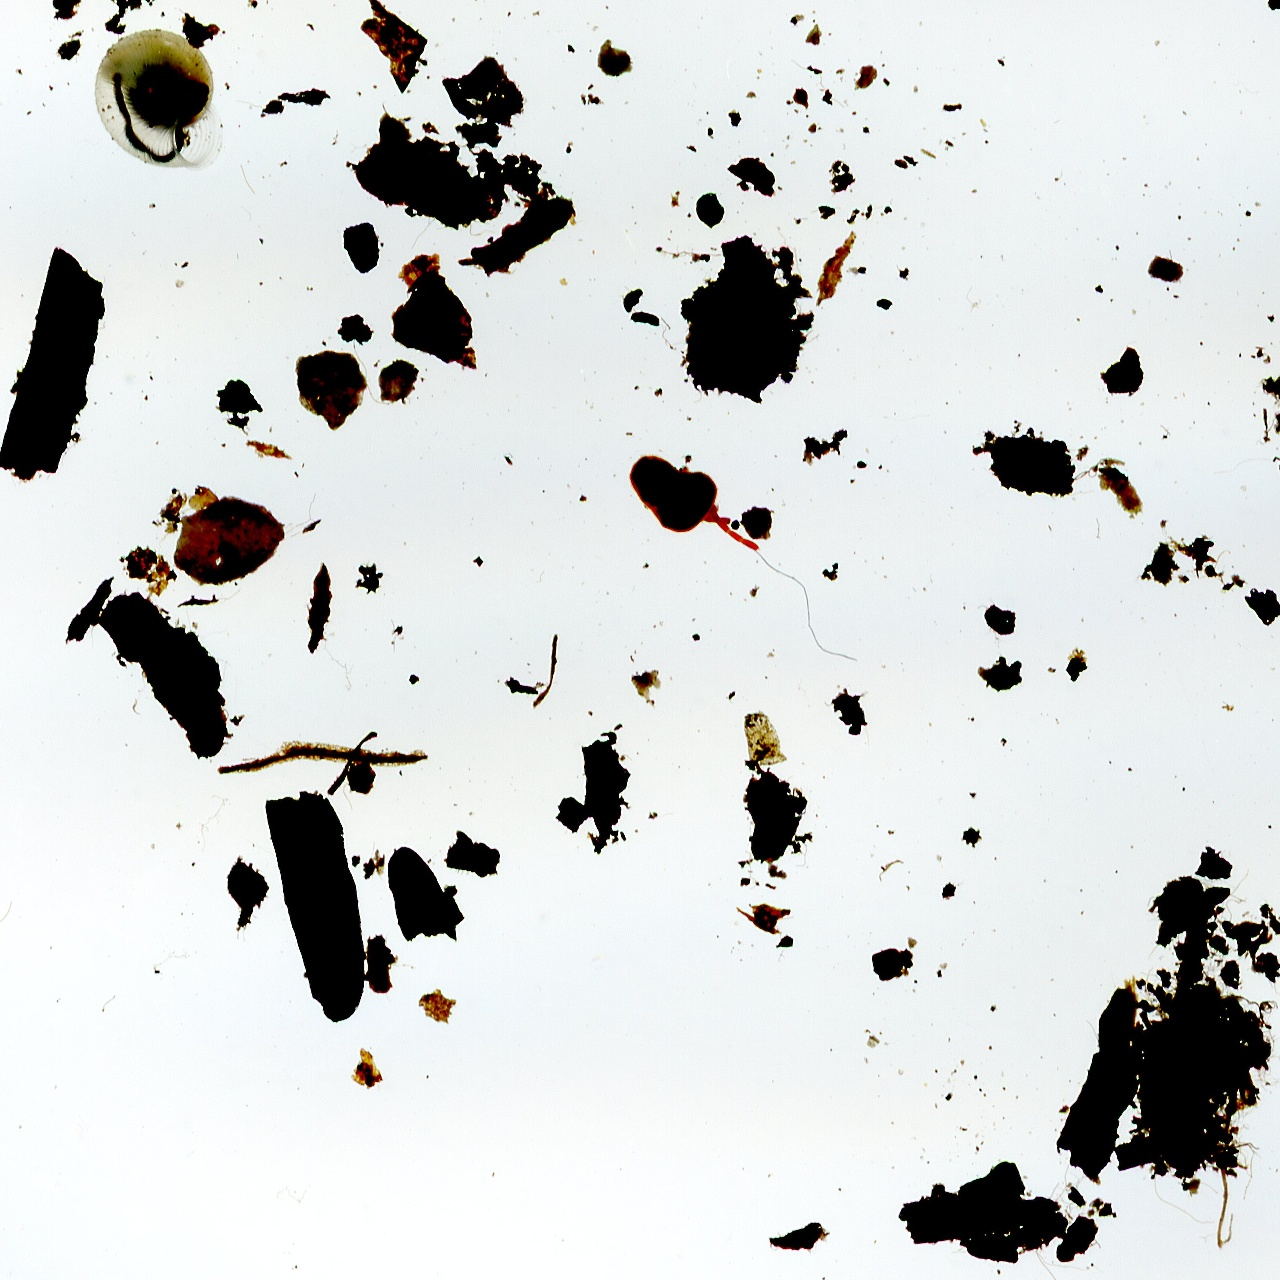arthropod: (93, 27, 226, 173)
